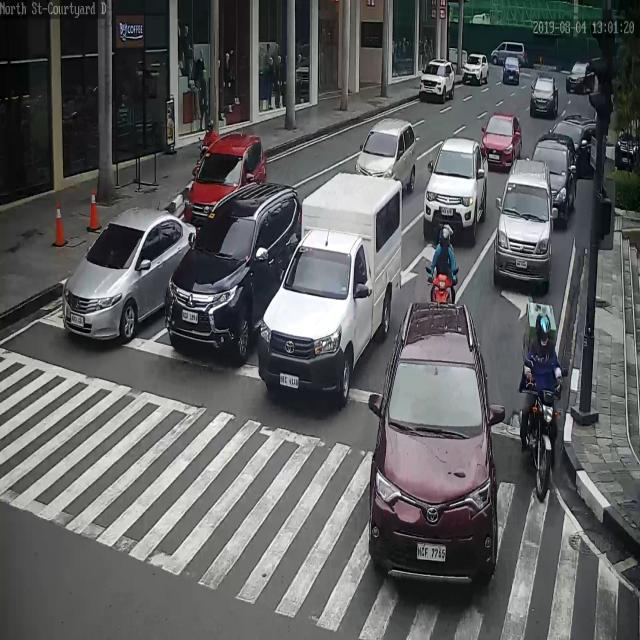car: (368, 302, 497, 588), (164, 181, 302, 363), (60, 210, 191, 343), (186, 134, 271, 243), (491, 157, 556, 283), (423, 139, 487, 237), (354, 114, 418, 193), (530, 137, 577, 212), (554, 115, 598, 175), (480, 114, 521, 167), (419, 61, 456, 102), (618, 116, 640, 173), (531, 75, 558, 120), (567, 62, 595, 97), (461, 55, 489, 84), (502, 55, 523, 86)
jeepney: (518, 301, 562, 483), (427, 221, 461, 307), (195, 119, 217, 178)
van: (257, 172, 402, 403), (489, 40, 525, 69)
